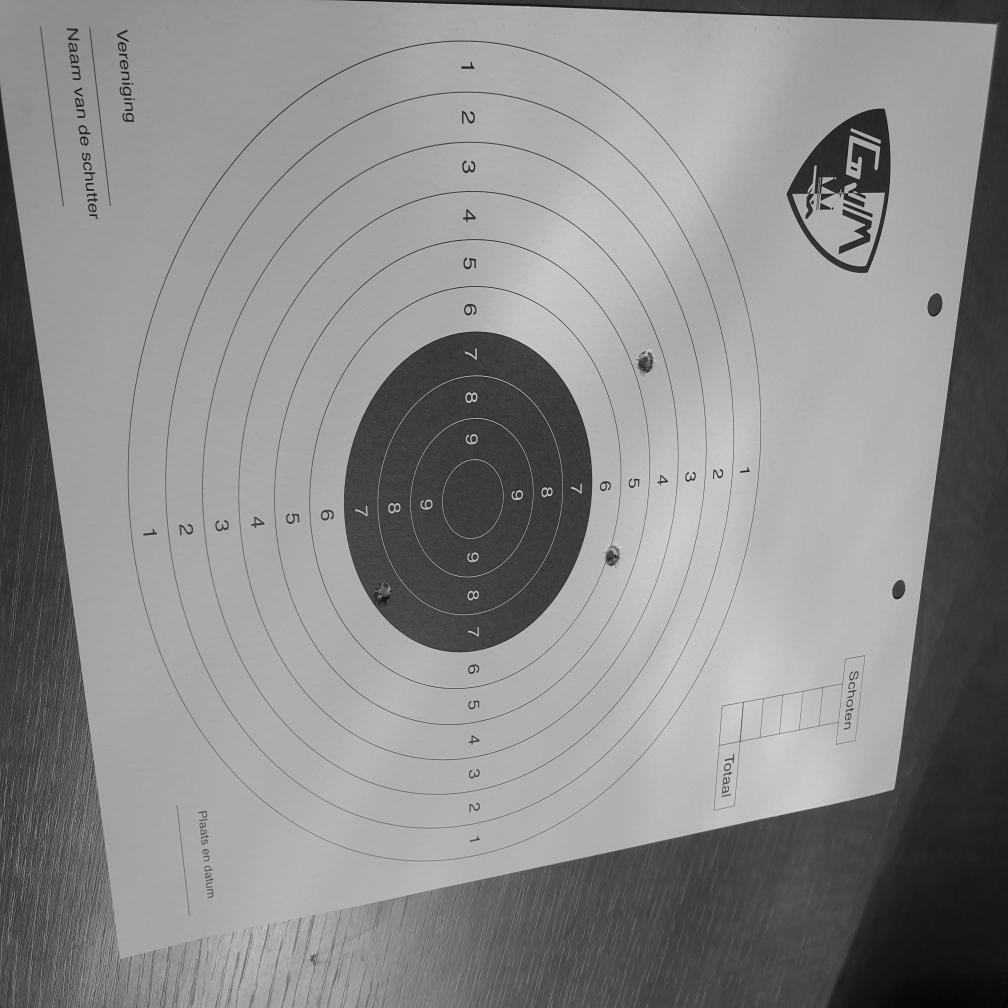4: (634, 347, 656, 378)
6: (602, 543, 623, 570)
7: (370, 579, 394, 607)
Target: (126, 33, 765, 867)
black_contour: (342, 331, 592, 653)
